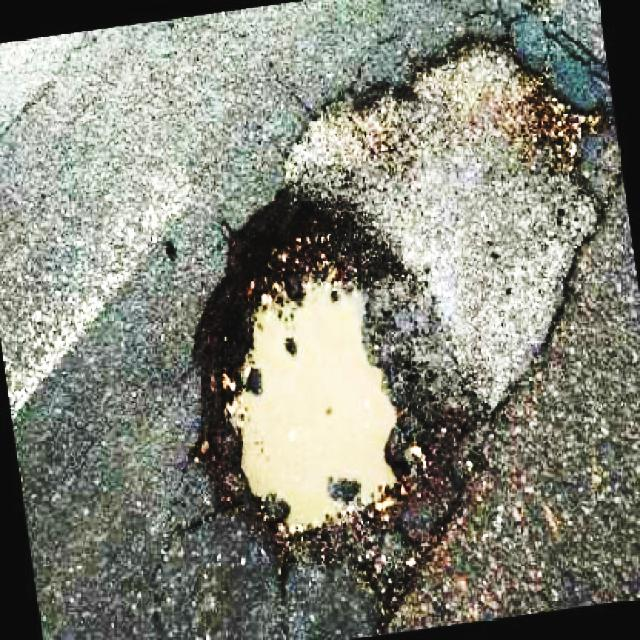pothole: (281, 14, 617, 408), (190, 186, 482, 574)
